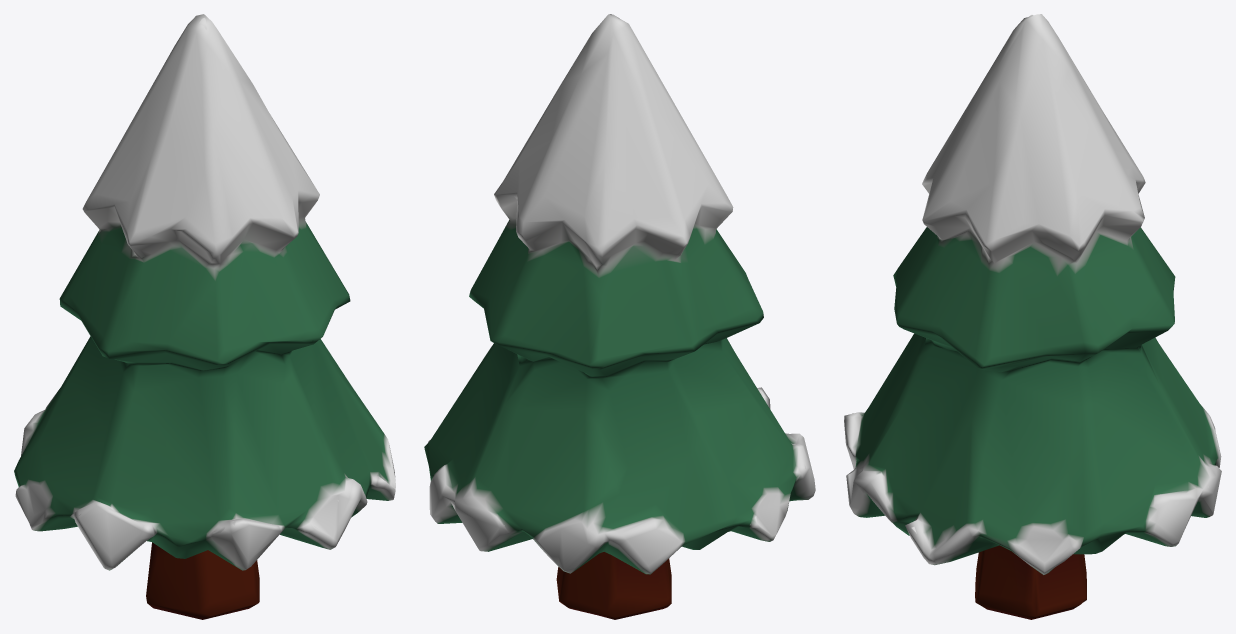
File: gen3d-snowy-fir-tree-lod0.glb
3 renders of one model, left to right at view 1: azimuth 30°, elevation 25°; view 2: azimuth 150°, elevation 25°; view 3: azimuth 270°, elevation 25°, orthographic.
Parts seen in each view (by area): view 1: part_0; view 2: part_0; view 3: part_0.
Boxes of the visible parts, x1,y1,x2,y2 form: part_0: (14, 14, 395, 619); part_0: (424, 14, 815, 619); part_0: (844, 14, 1221, 619).
Size of the model in its own units: 0.5988 by 0.998 by 0.5871.
